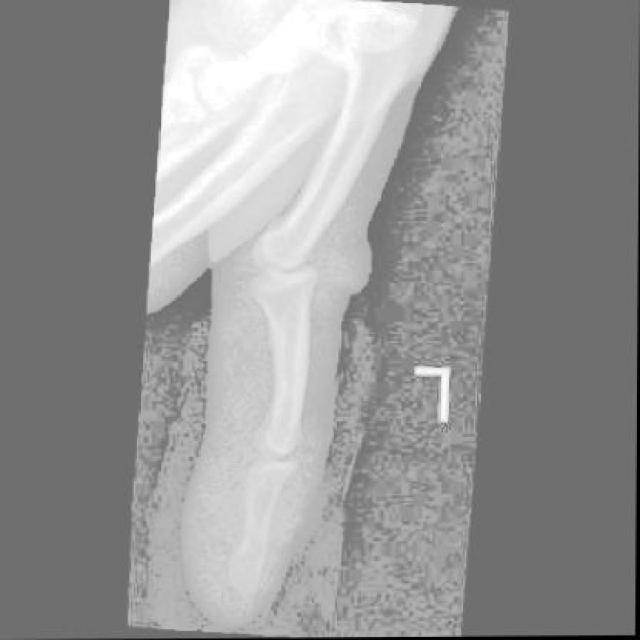Fracture: (220, 523, 282, 599)
